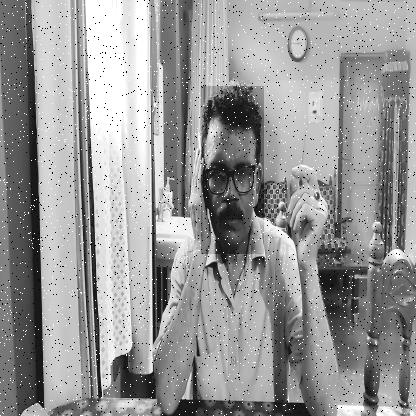Normal: (201, 86, 264, 254)
